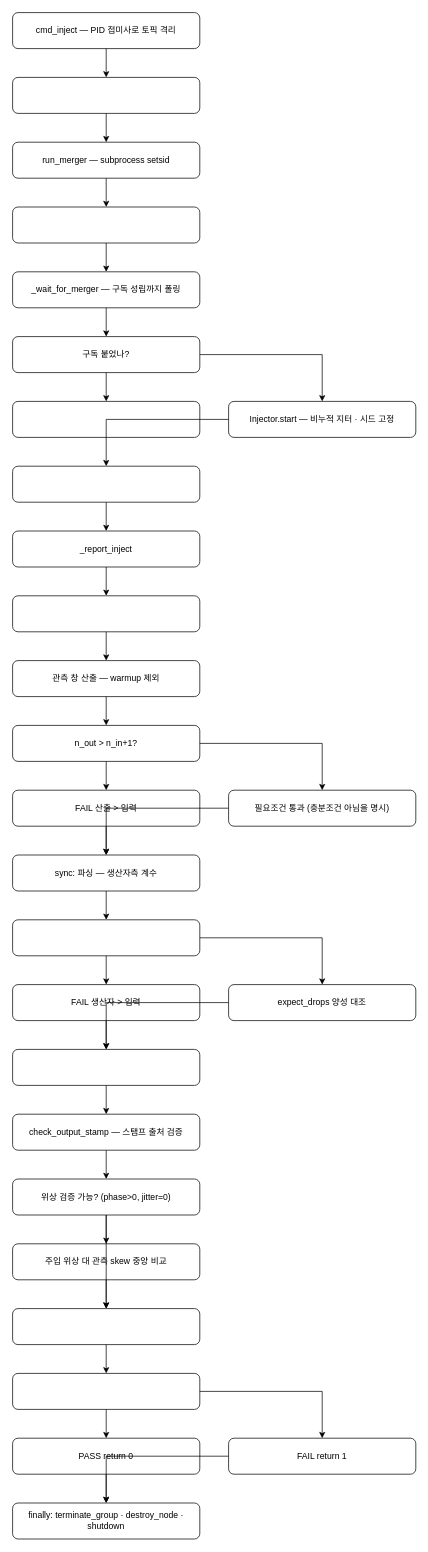
Image size: 428x1552. Some labels were removed from this diagram. The shapes that lost their labels are listed below. From the top down, each one's box as (x1, y1, x2, y2) in pixels, then its label:
(12, 77, 200, 113): _run_inject
(12, 206, 200, 243): drain 데몬 스레드
(12, 401, 200, 437): 기동 실패 · 로그 15줄 · return 1
(12, 465, 200, 502): spin_for(duration)
(12, 595, 200, 632): terminate_group + drain.join + log 스냅샷
(12, 919, 200, 956): prod > 실측 주입률?
(12, 1049, 200, 1085): pairing_analysis -> metrics
(12, 1308, 200, 1345): assert_skew_under 경계 검사
(12, 1373, 200, 1409): failures 비었나
